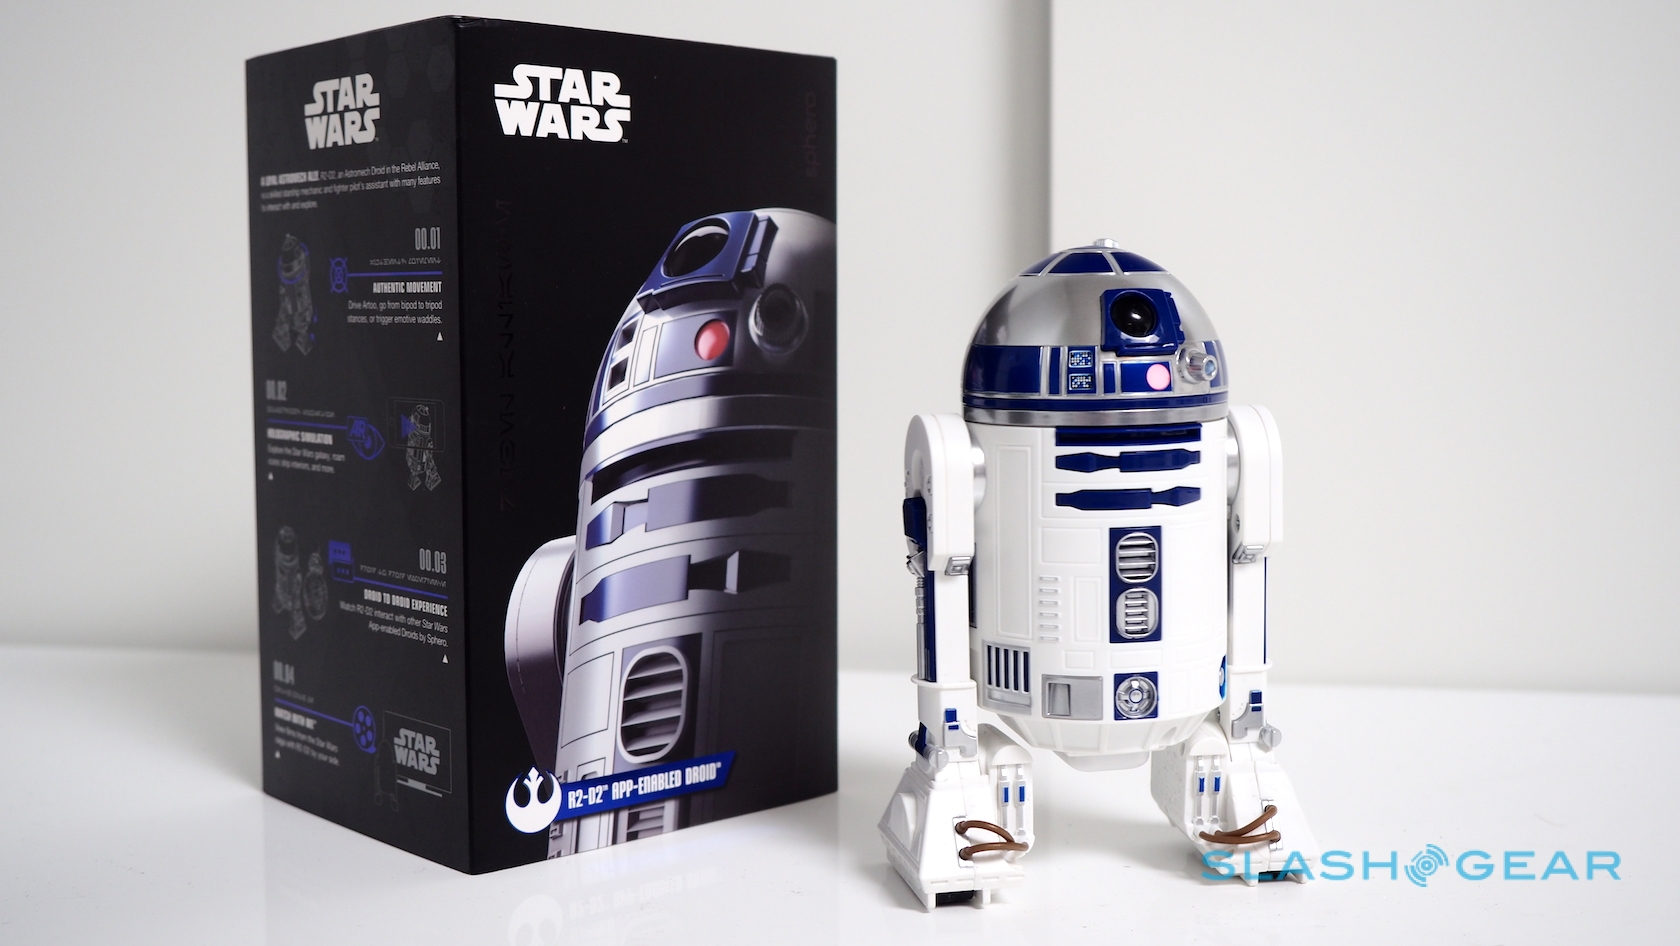r2d2: (894, 241, 1314, 902), (545, 205, 837, 784)
